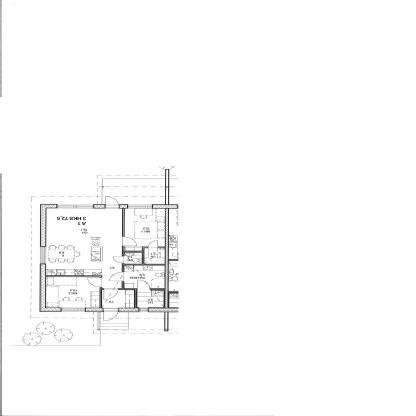bathroom: (125, 264, 166, 290), (123, 252, 144, 265)
door: (101, 308, 119, 322), (103, 197, 122, 210), (107, 271, 126, 282), (85, 276, 102, 288), (103, 288, 120, 300), (137, 279, 152, 291), (121, 236, 138, 246), (112, 255, 125, 264), (146, 240, 158, 249)
perimeter: (41, 205, 167, 310)
window: (54, 203, 96, 210), (60, 306, 86, 314), (126, 203, 154, 210), (39, 246, 48, 265), (137, 307, 150, 314)
